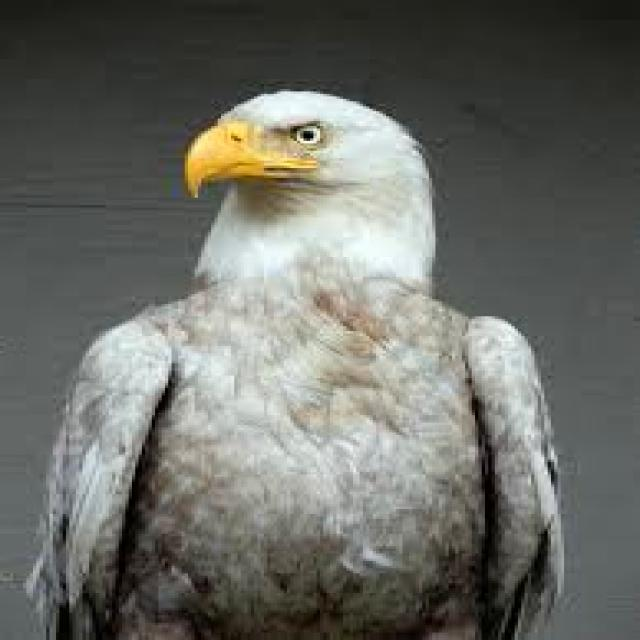eagle: (26, 91, 561, 638)
